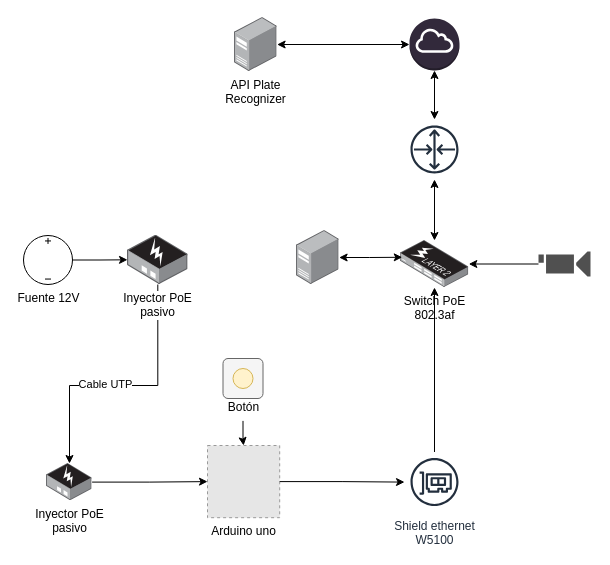
The diagram is 610 pixels wide and 565 high, and some of its shapes have lost their labels. Grey dashed boxes stand in for pictures. Here are the shapes that lost their labels. From the top down, the centre of each, then its label:
At [434,44]: "Internet".
At [434,149]: "Router".
At [317,257]: "Servidor Python".
At [564,263]: "Cámara IP".
